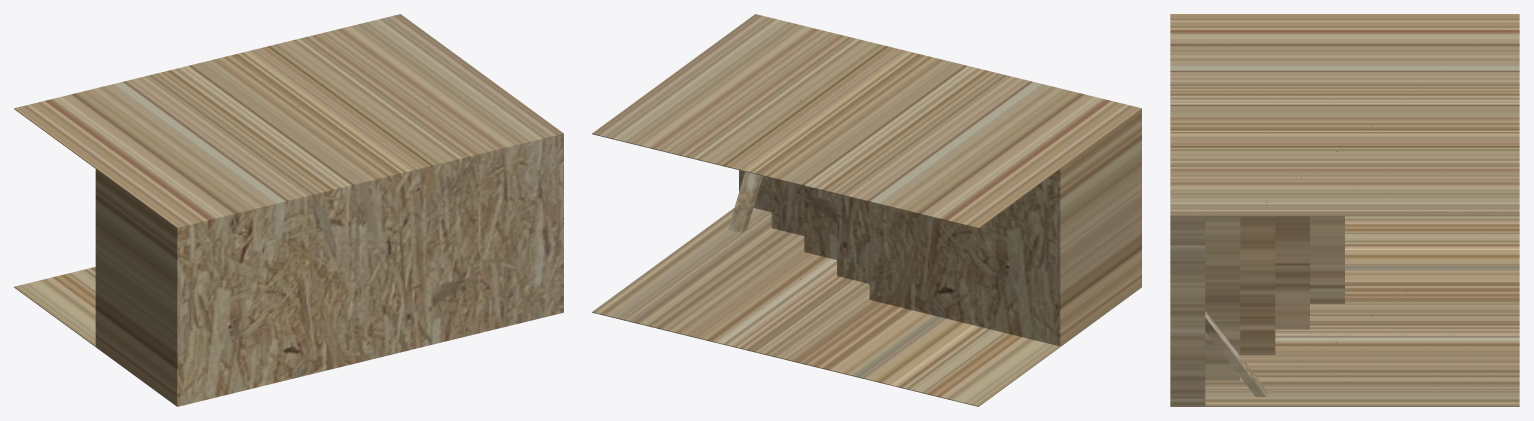
File: Stairs_30deg_2deb.dae
3 renders of one model, left to right at view 1: azimuth 30°, elevation 25°; view 2: azimuth 150°, elevation 25°; view 3: azimuth 270°, elevation 25°, orthographic. The views are drawn at different scales.
Parts seen in each view (by area): view 1: Stairs 30deg 2deb; view 2: Stairs 30deg 2deb; view 3: Stairs 30deg 2deb.
Part boxes in pixels (left/top/right/bottom): Stairs 30deg 2deb: left=14, top=14, right=563, bottom=406; Stairs 30deg 2deb: left=592, top=14, right=1141, bottom=406; Stairs 30deg 2deb: left=1170, top=14, right=1519, bottom=406.
Bounding box in the file's own units: 273 × 200 × 121.
Materials: 1 (1 with a texture image).
